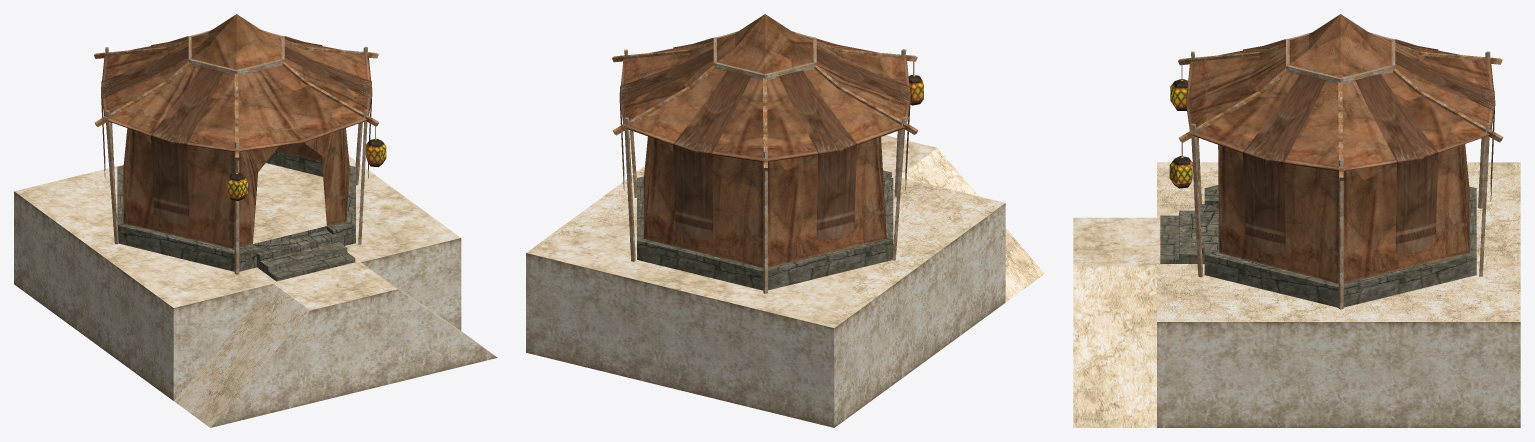
The model's file is ply_tato_merchant_tent_s01_r0_mesh_l0.fbx.
3 views of the same model, side by side, from view 1: azimuth 30°, elevation 25°; view 2: azimuth 150°, elevation 25°; view 3: azimuth 270°, elevation 25° (orthographic). The views are drawn at different scales.
Visible parts, largest first — view 1: mesh_node; view 2: mesh_node; view 3: mesh_node.
Part boxes in pixels (x1,y1,x2,y2): mesh_node: (14, 14, 497, 427); mesh_node: (526, 14, 1044, 427); mesh_node: (1073, 14, 1520, 427).
Bounding box in the file's own units: 9.05 × 8.81 × 10.7.
